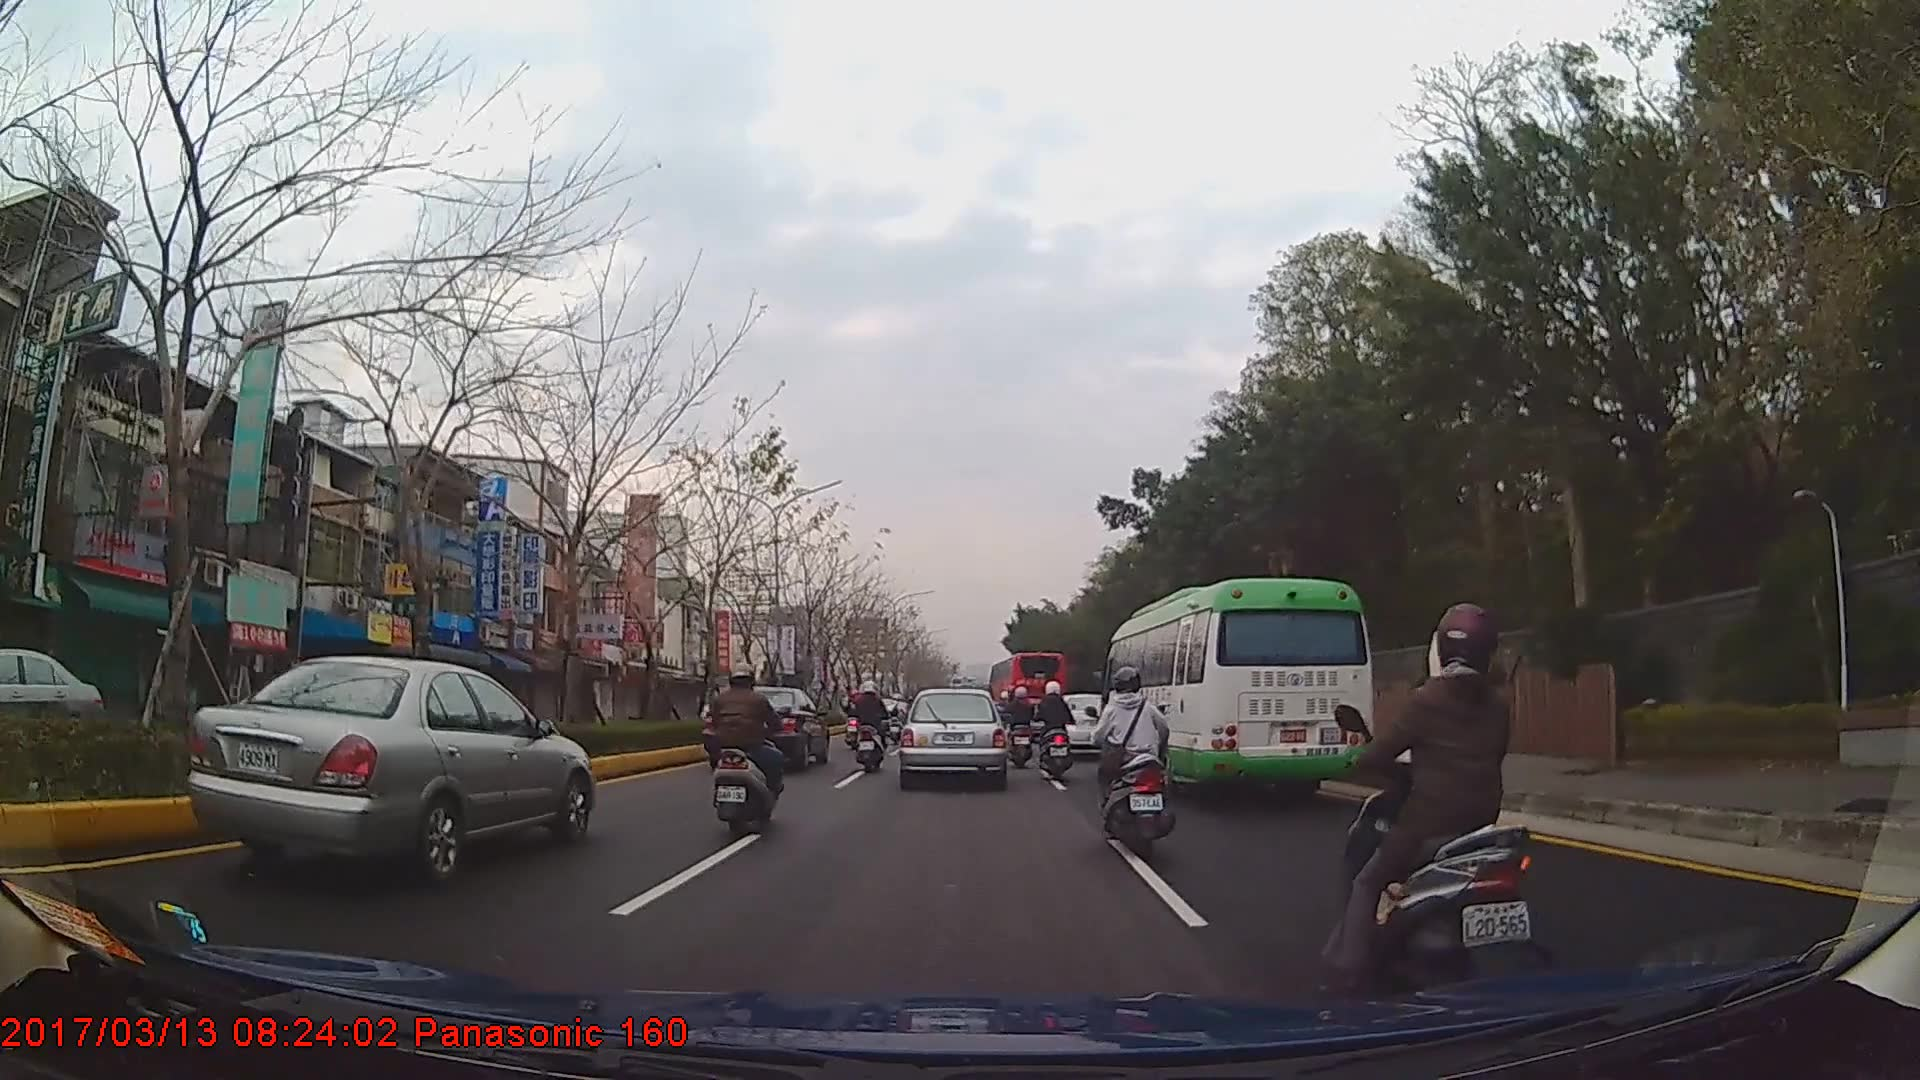rider: (1330, 599, 1536, 1024), (1094, 663, 1176, 860), (705, 664, 783, 838), (1034, 682, 1075, 779), (850, 680, 891, 771), (1004, 683, 1038, 769), (886, 692, 910, 744), (855, 682, 876, 737)
vehicle: (186, 652, 593, 884), (1103, 575, 1373, 803), (700, 681, 827, 770), (899, 685, 1007, 789), (0, 642, 107, 746), (989, 648, 1067, 740)
